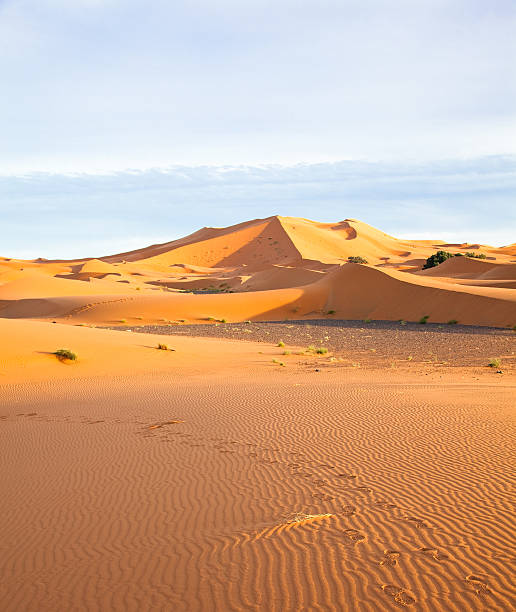human_footprint: (381, 584, 415, 605), (466, 574, 491, 594), (419, 547, 448, 560), (343, 528, 365, 543), (379, 550, 400, 565)
